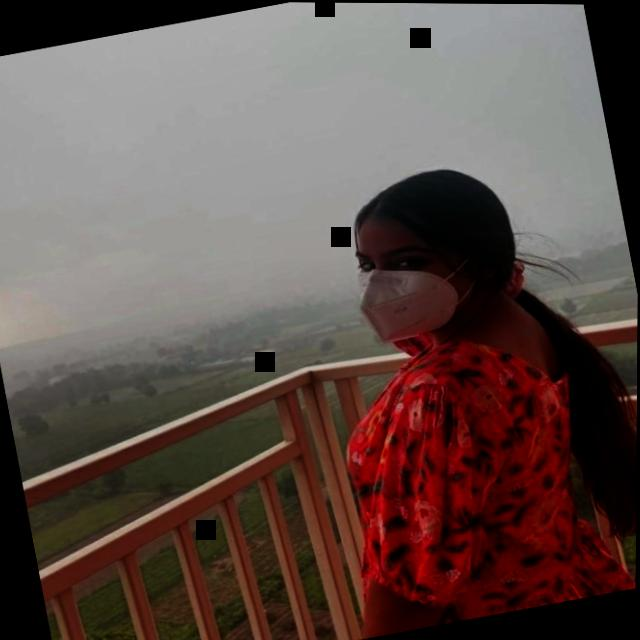Mask: (343, 210, 486, 349)
